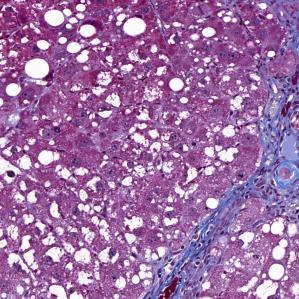fibrosis: (251, 84, 299, 209), (168, 213, 229, 298)
